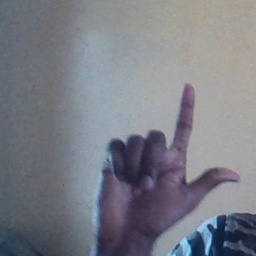L: (91, 82, 244, 242)
